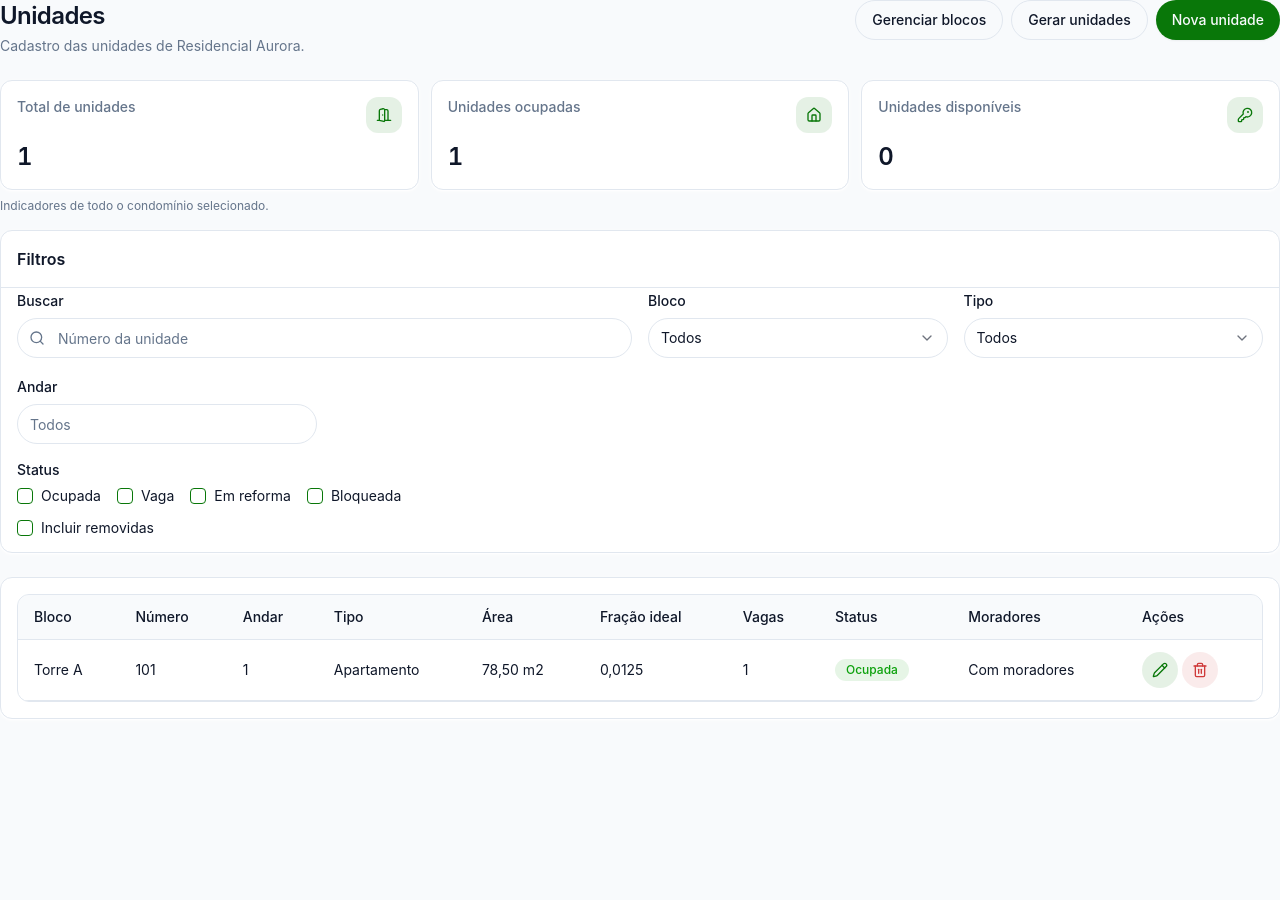
Test case: Listagem de unidades › IT-047: filtros sem resultado mostram um estado distinto, com ação de limpar
Expected: the text "101" is shown, left=135, top=660, right=156, bottom=680
Click the checkbox next to "Bloqueada".
click(315, 496)  # box left=307, top=488, right=323, bottom=504
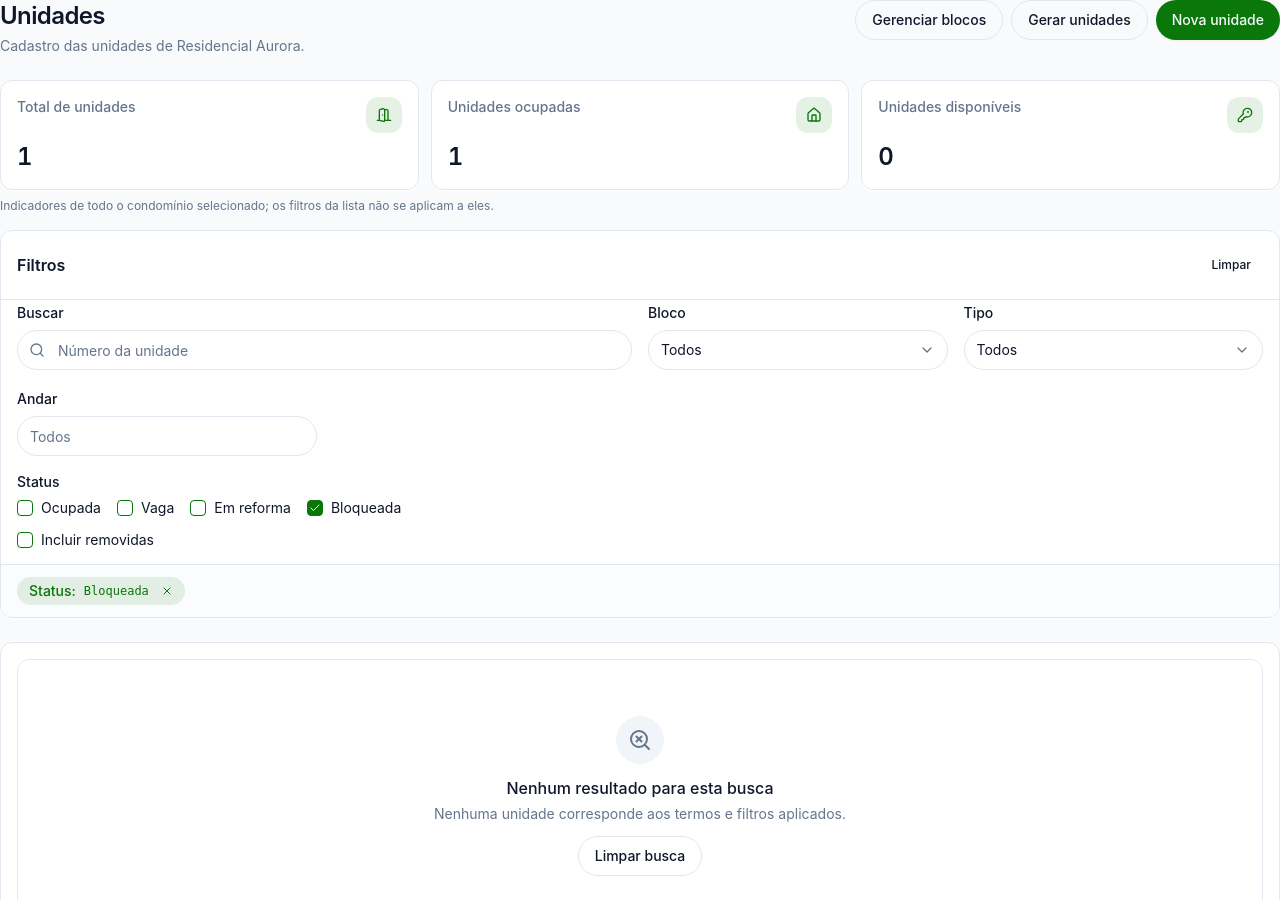
Now the text "Nenhum resultado para esta busca" is shown, box left=506, top=778, right=774, bottom=798
Now the button "Limpar busca" is shown, box left=578, top=836, right=702, bottom=876
